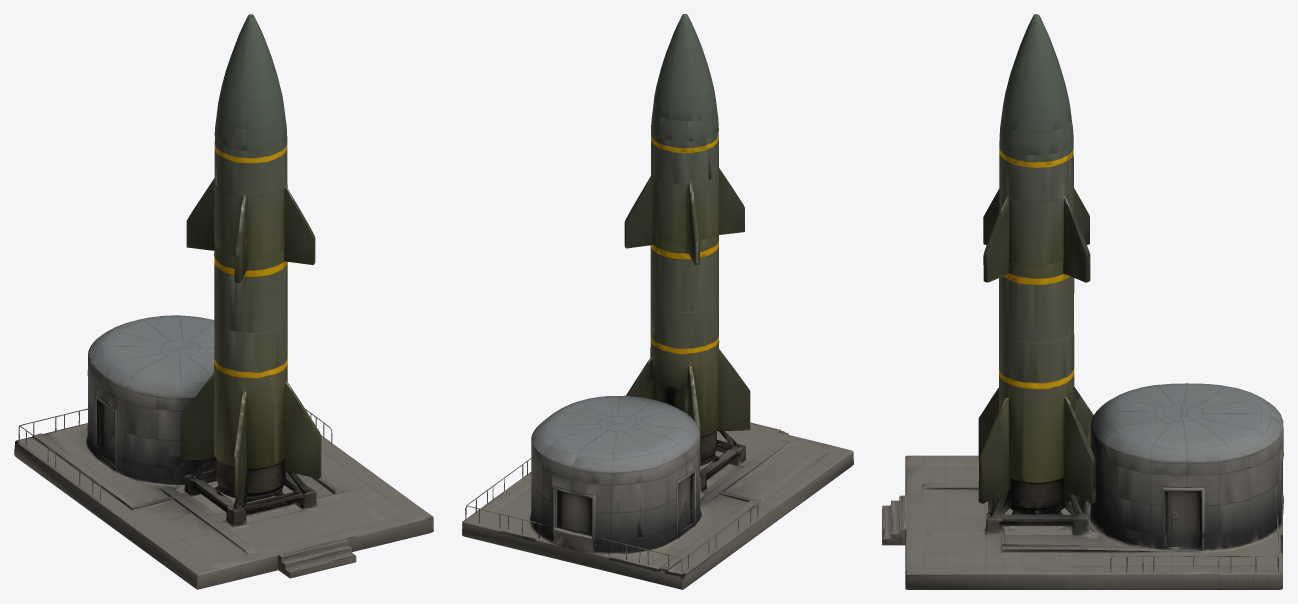
The model's file is missile.glb.
The picture shows the model from 3 angles, left to right: view 1: azimuth 30°, elevation 25°; view 2: azimuth 150°, elevation 25°; view 3: azimuth 270°, elevation 25°; orthographic projection. The views are drawn at different scales.
Parts seen in each view (by area): view 1: node_0; view 2: node_0; view 3: node_0.
Part boxes in pixels (box(x1,y1,x2,y2)): node_0: box(14, 14, 433, 589); node_0: box(462, 14, 853, 589); node_0: box(882, 14, 1283, 589).
Size of the model in its own units: 0.4523 by 0.9123 by 0.6446.
1 material, 1 textured.
